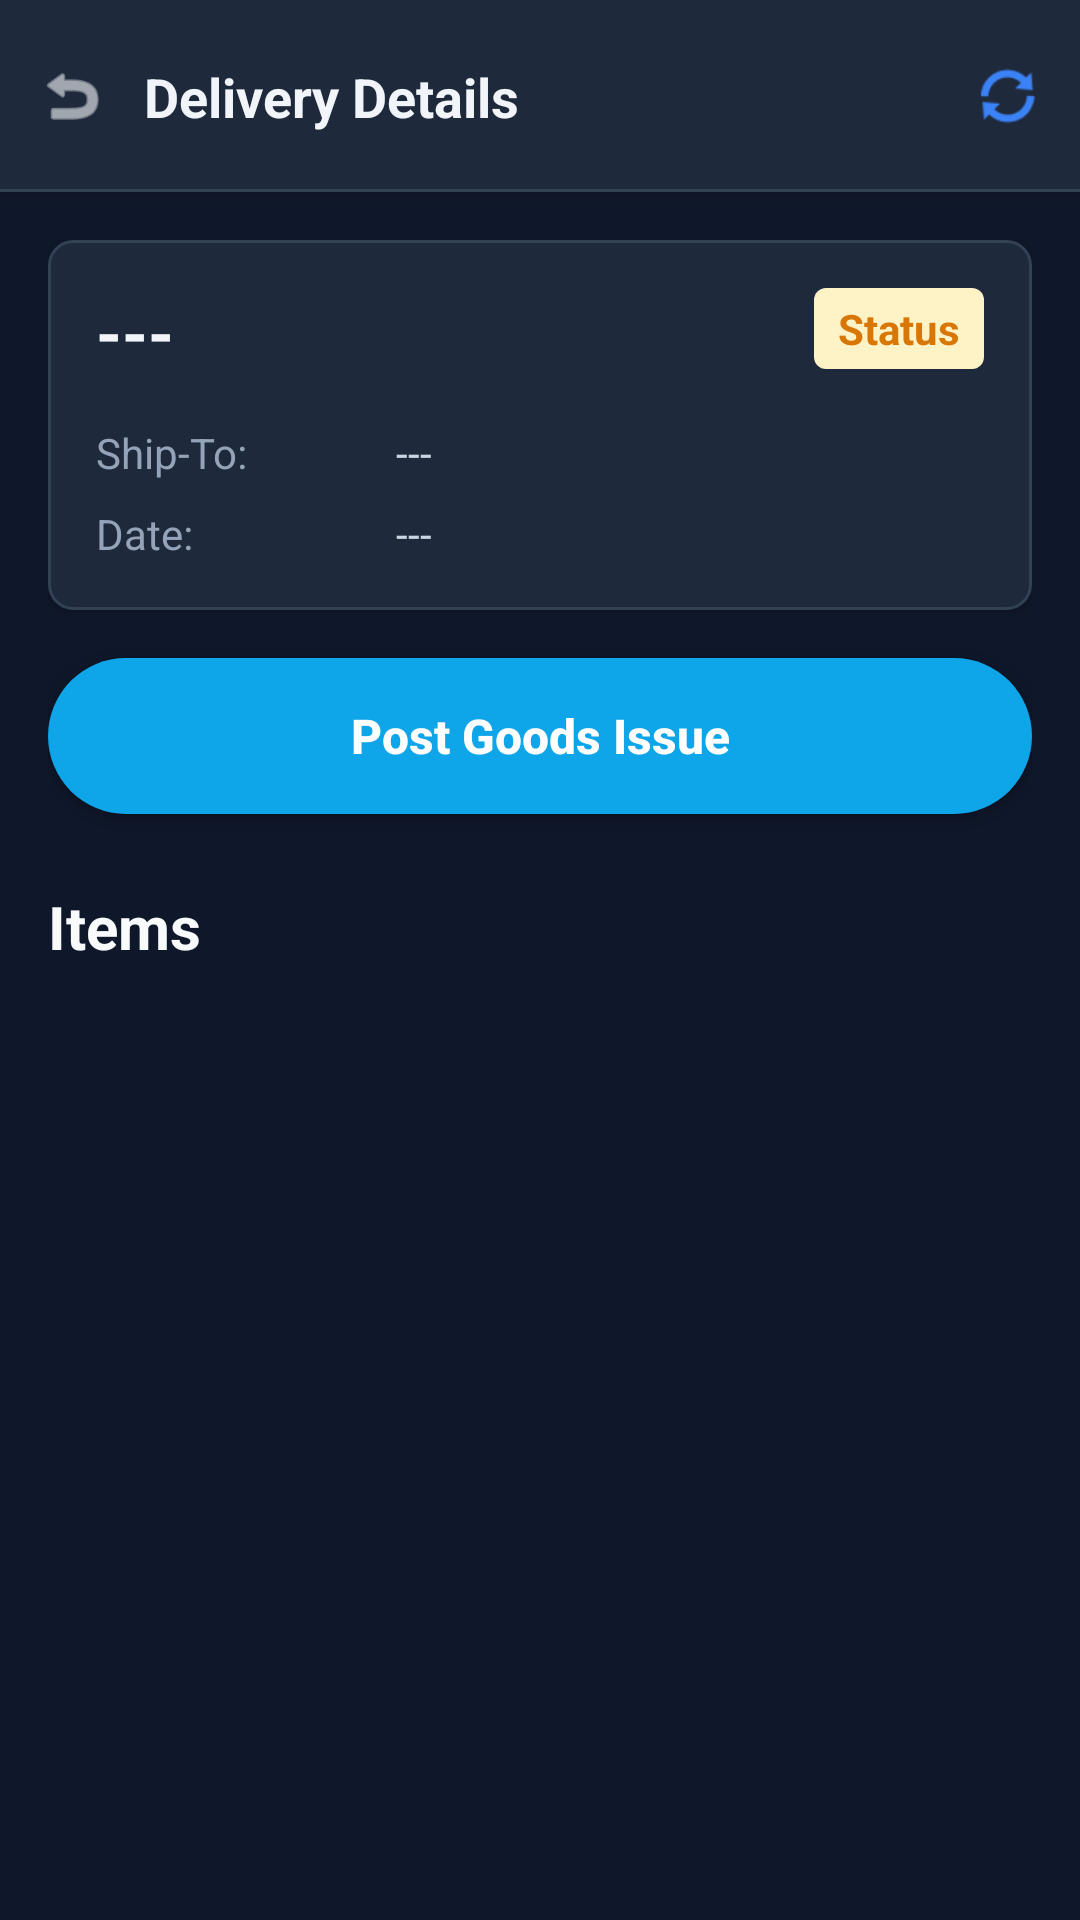

Icons on this 1080 × 1920 Android screen, each with its box as (x1, y1, x2, y2):
popup sync: (981, 69, 1035, 123)
revert: (47, 73, 99, 120)
